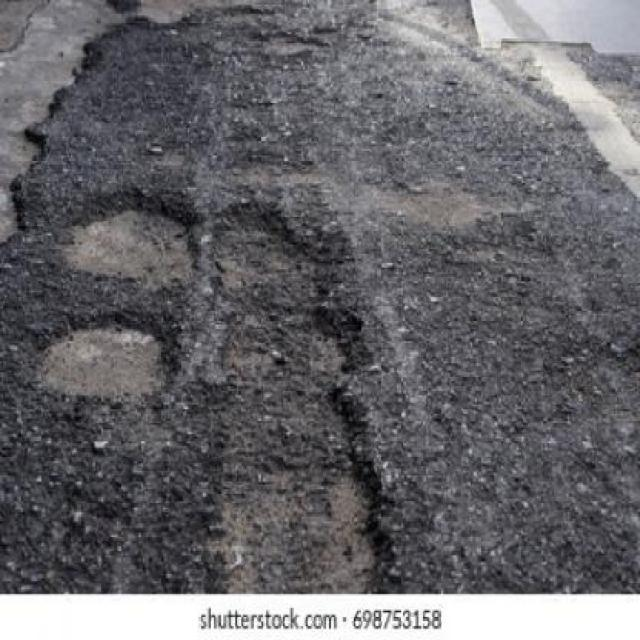Pothole: (211, 196, 397, 595), (29, 313, 174, 405), (61, 196, 199, 289)
